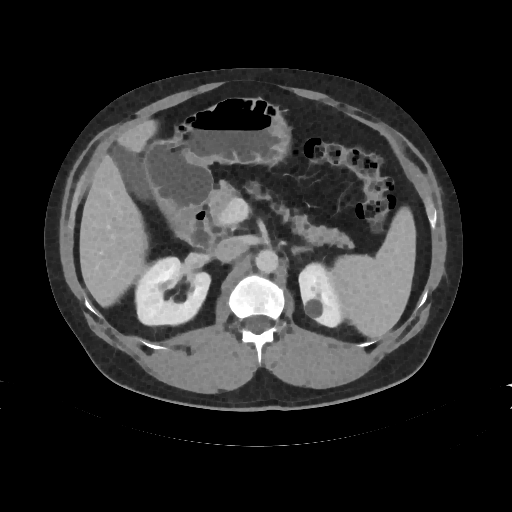Lesion: (302, 296, 325, 321)
